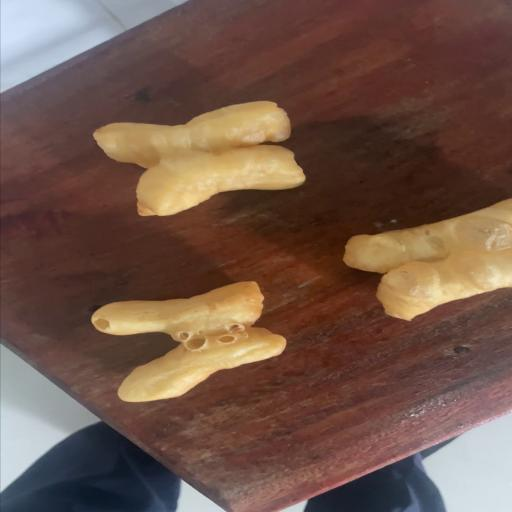street_golden_defect: (91, 282, 286, 402), (344, 199, 512, 321)
street_golden_good: (93, 101, 305, 216)
